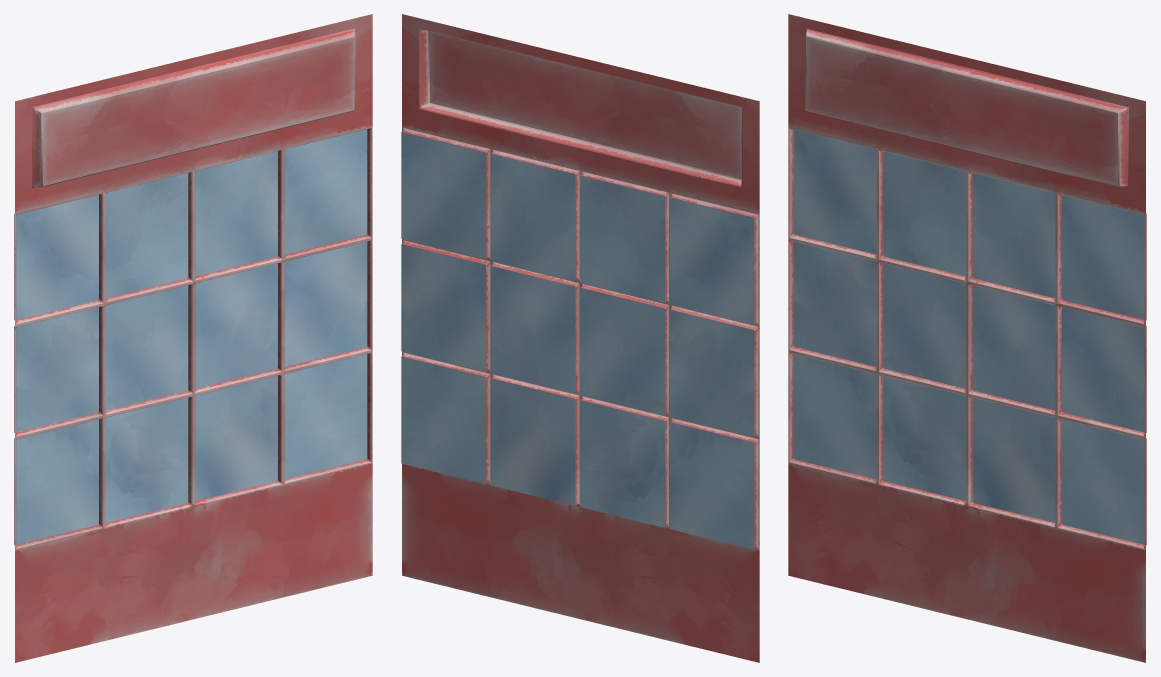
File: Glass wall red.fbx
3 renders of one model, left to right at view 1: azimuth 30°, elevation 25°; view 2: azimuth 150°, elevation 25°; view 3: azimuth 330°, elevation 25°, orthographic.
Parts seen in each view (by area): view 1: Glass wall red; view 2: Glass wall red; view 3: Glass wall red.
Boxes of the visible parts, left/top/right/bottom form: Glass wall red: left=14, top=14, right=372, bottom=662; Glass wall red: left=401, top=14, right=759, bottom=662; Glass wall red: left=788, top=14, right=1146, bottom=662.
Bounding box in the file's own units: 200 × 300 × 7.77.
